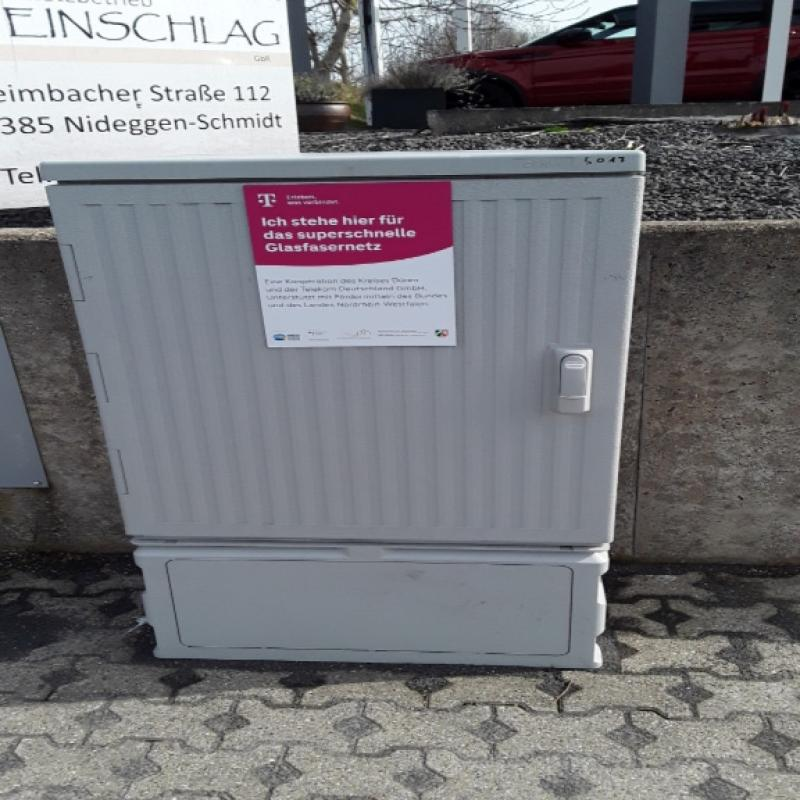NT-Gehause: (42, 149, 638, 664)
Steaker: (245, 180, 458, 346)
